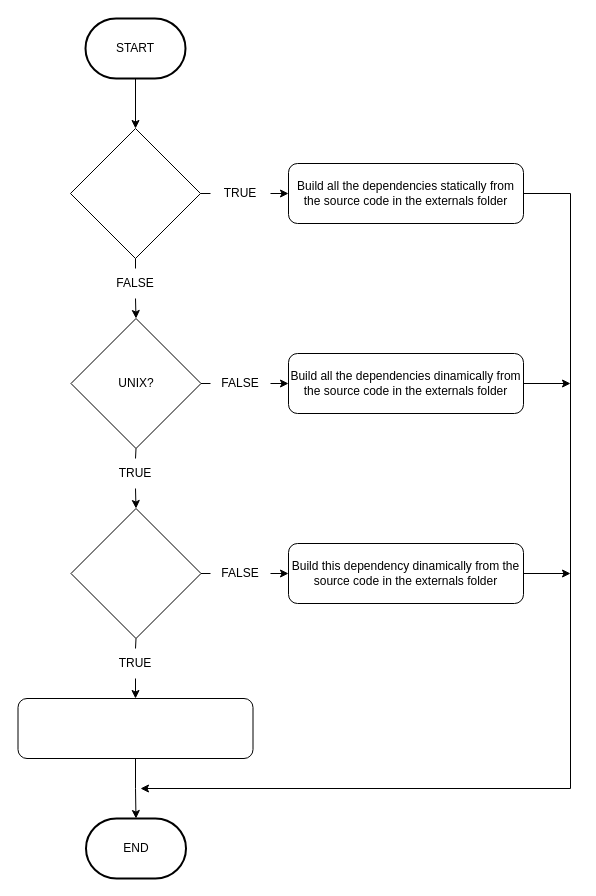
This 596x896 diagram has some shape labels left out. Here are the shapes that lost their labels. From the top down, the centre of each, then its label:
pixel 135 193: BUILD_STATIC?
pixel 135 573: NATIVE LIB?
pixel 135 728: Link against native lib
